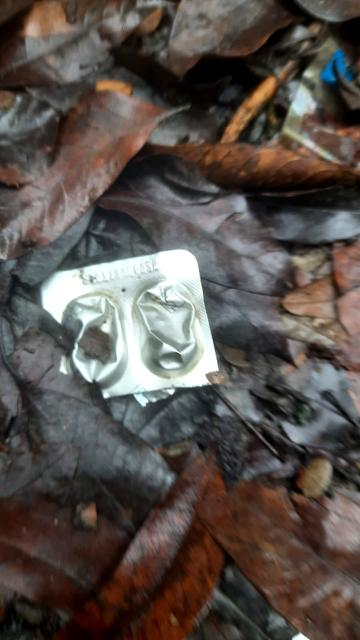medicine: (45, 253, 216, 393)
